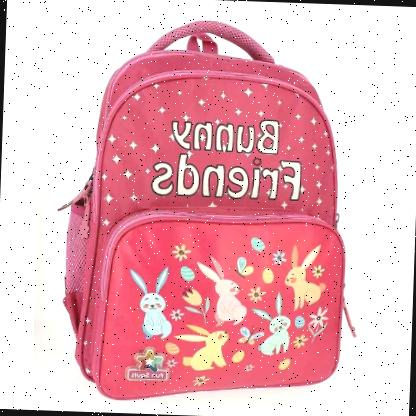bag: (46, 10, 362, 416)
